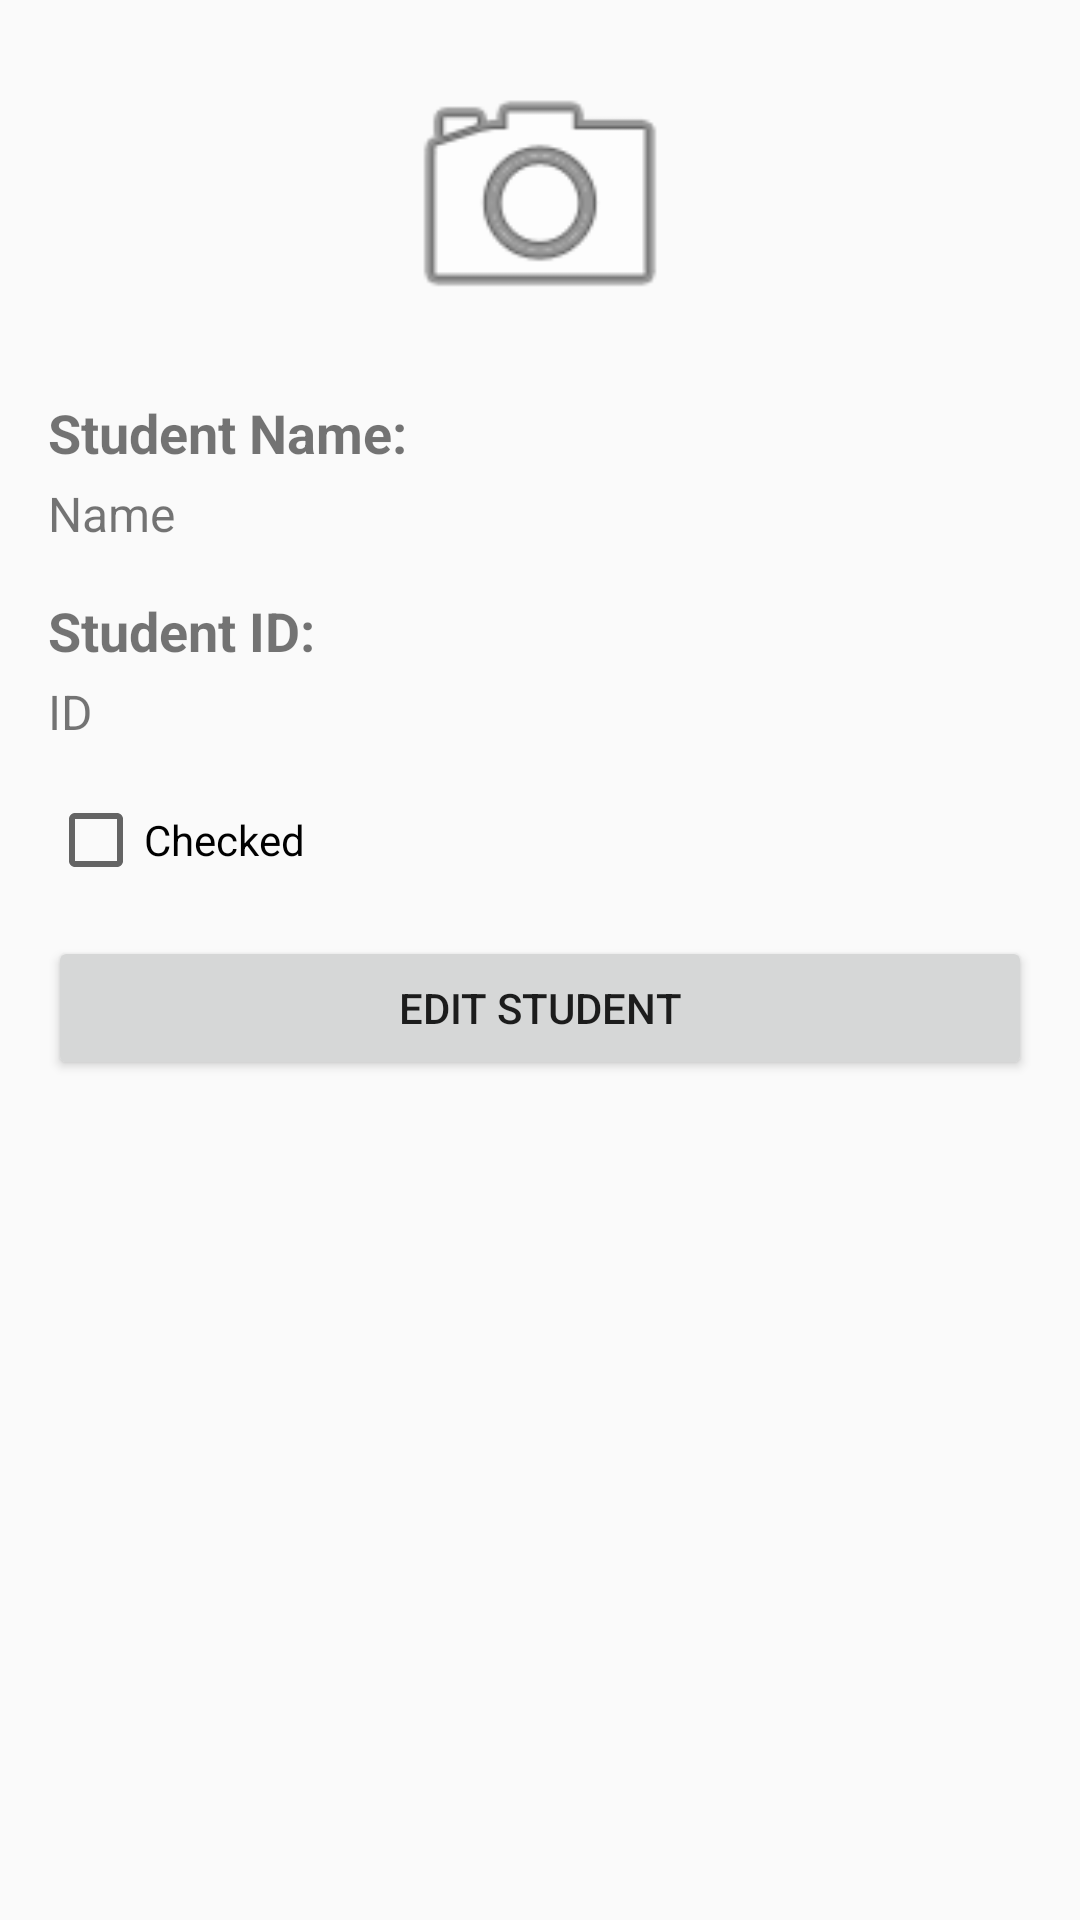

Icons on this 1080 × 1920 Android screen, each with the point to tap as [x,y]:
camera: [540,193]
